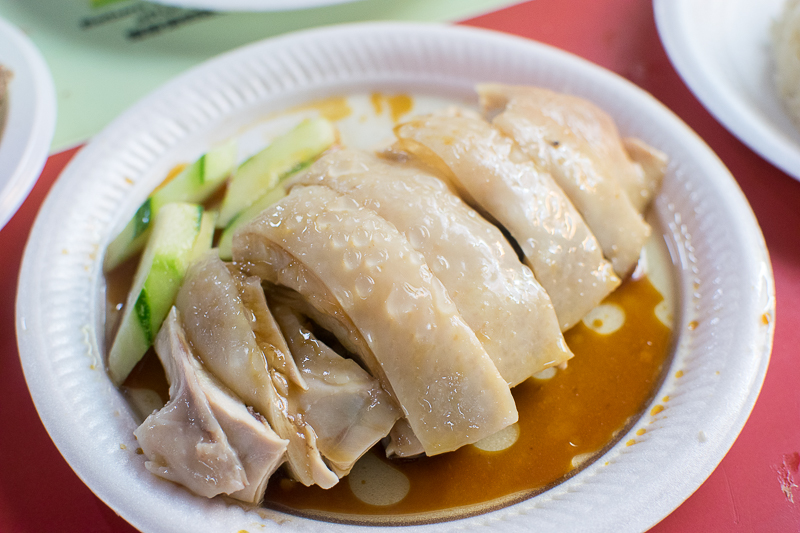Steamed Chicken Rice: (154, 81, 678, 497)
